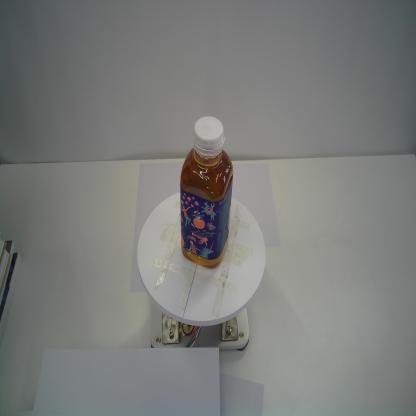Drink: (179, 115, 234, 269)
